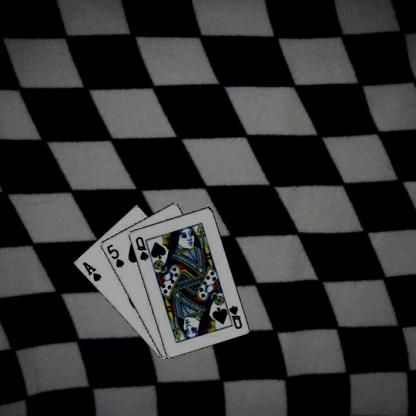5S: (104, 242, 125, 269)
AS: (80, 259, 102, 283)
QS: (226, 303, 243, 330), (133, 234, 149, 261)
